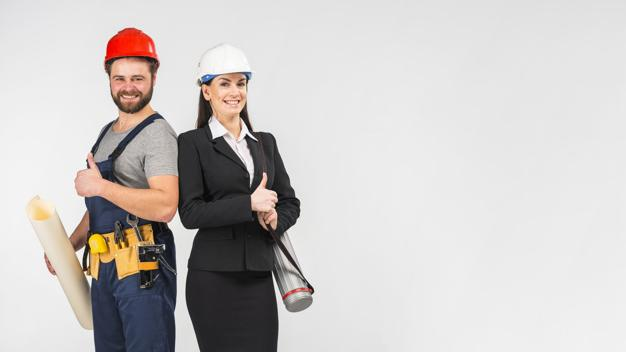thumbsup: (74, 152, 97, 197), (257, 171, 279, 212)
